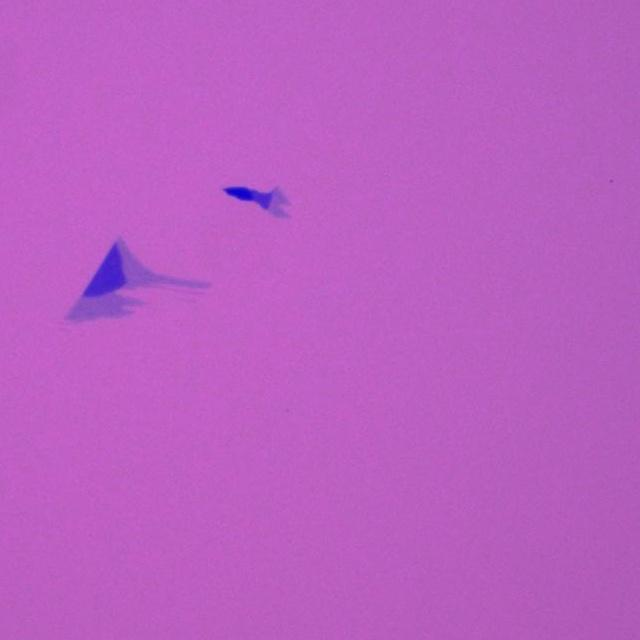monolayer-eWW4: (118, 232, 214, 294), (63, 288, 144, 324), (270, 185, 294, 219)
